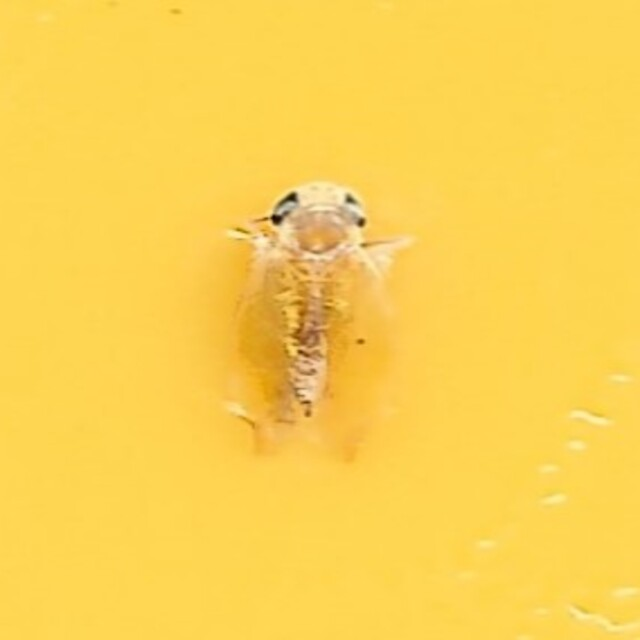Hemiptera: (225, 174, 415, 466)
